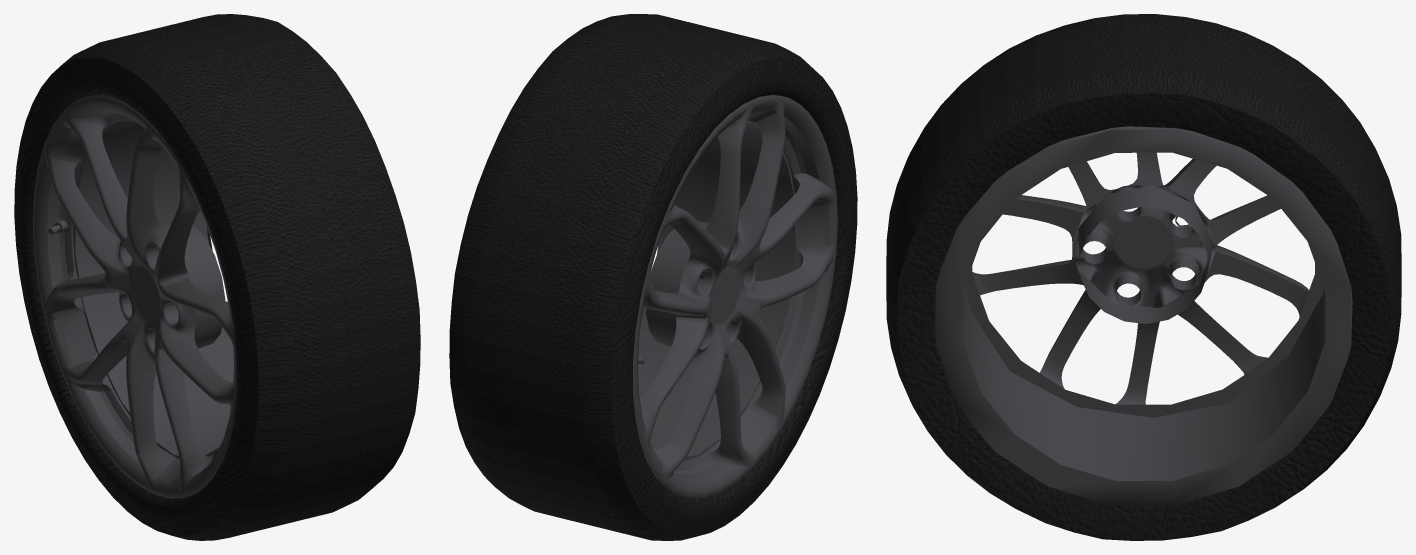
Rendered from disk.gltf.
The picture shows the model from 3 angles, left to right: view 1: azimuth 30°, elevation 25°; view 2: azimuth 150°, elevation 25°; view 3: azimuth 270°, elevation 25°; orthographic projection.
Visible parts, largest first — view 1: Object_170, Object_169; view 2: Object_170, Object_169; view 3: Object_170, Object_169.
Part boxes in pixels (x1,y1,x2,y2): Object_170: (14,14,420,540); Object_169: (32,95,237,498); Object_170: (449,14,857,540); Object_169: (633,95,837,498); Object_170: (886,14,1401,540); Object_169: (934,126,1352,505).
Size of the model in its own units: 0.6305 by 1.66 by 1.66.
2 materials, 2 textured.
